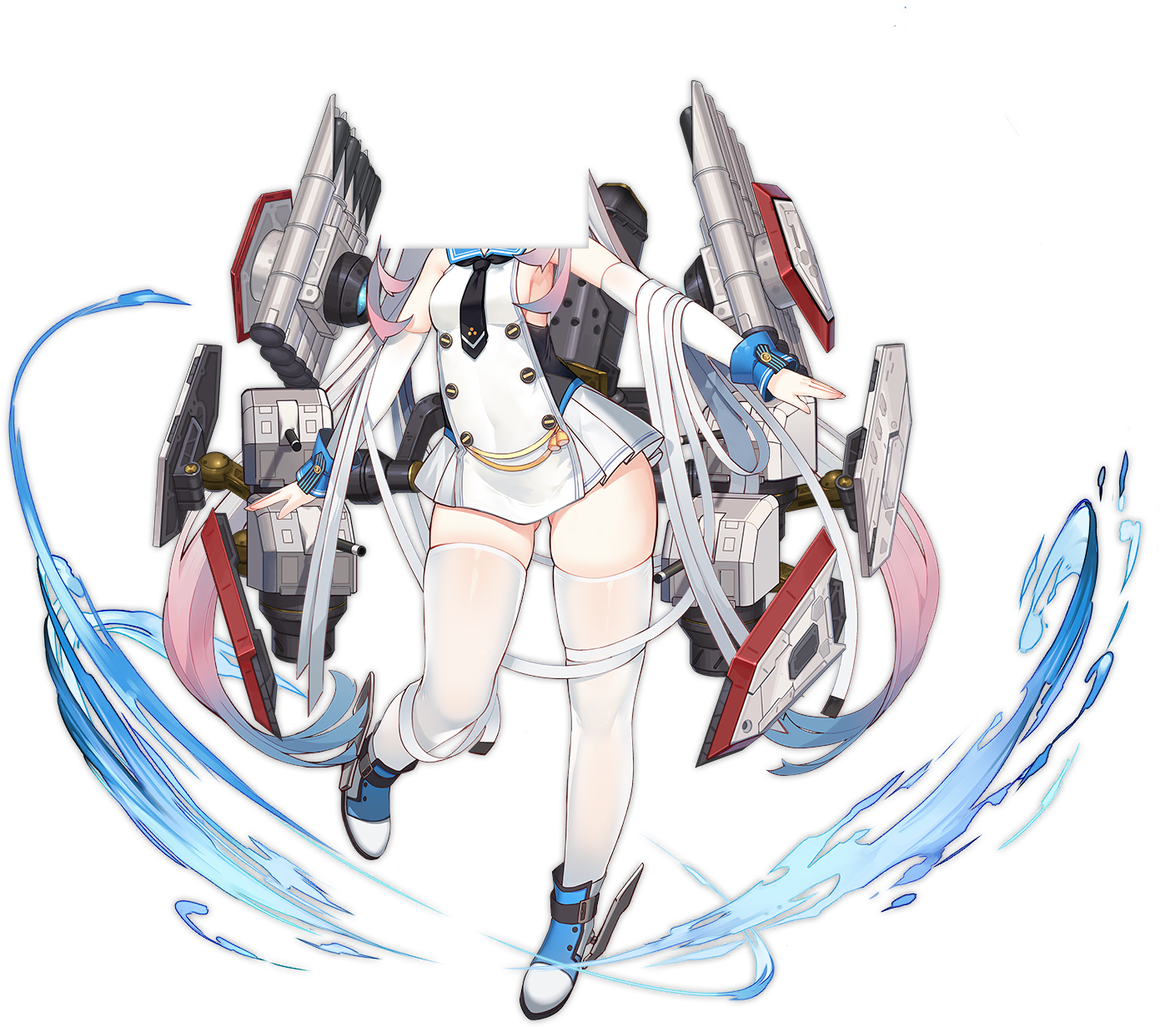person: (78, 49, 987, 991)
